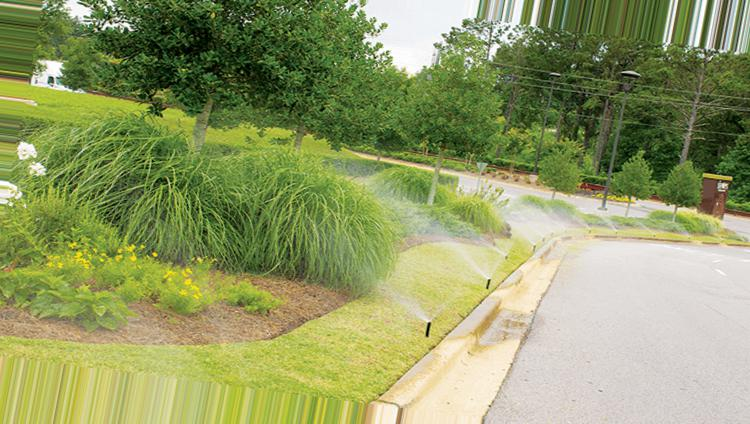patch: (201, 318, 246, 332)
